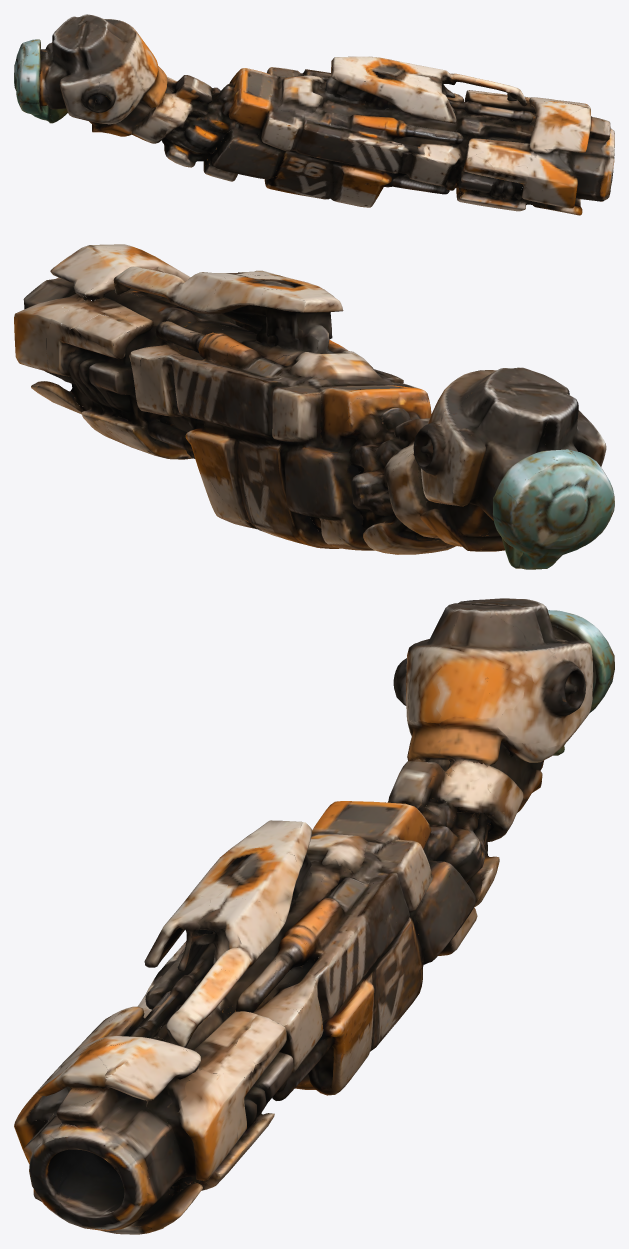
The model's file is Rustwing_56_Original.glb.
3 views of the same model, one above another, from view 1: azimuth 30°, elevation 25°; view 2: azimuth 150°, elevation 25°; view 3: azimuth 270°, elevation 25° (orthographic). The views are drawn at different scales.
Visible parts, largest first — view 1: tripo_part_0, tripo_part_2, tripo_part_1, tripo_part_6, tripo_part_10, tripo_part_9, tripo_part_3, tripo_part_11, tripo_part_15, tripo_part_4, tripo_part_20, tripo_part_26 (+9 smaller); view 2: tripo_part_0, tripo_part_2, tripo_part_4, tripo_part_6, tripo_part_1, tripo_part_18, tripo_part_3, tripo_part_9, tripo_part_8, tripo_part_11, tripo_part_15, tripo_part_7 (+6 smaller); view 3: tripo_part_2, tripo_part_0, tripo_part_1, tripo_part_18, tripo_part_19, tripo_part_6, tripo_part_11, tripo_part_15, tripo_part_9, tripo_part_3, tripo_part_16, tripo_part_25 (+10 smaller).
Boxes of the visible parts, x1,y1,x2,y2 form: tripo_part_0: (257, 67, 469, 207); tripo_part_2: (44, 14, 167, 124); tripo_part_1: (325, 56, 534, 123); tripo_part_6: (203, 68, 281, 181); tripo_part_10: (463, 138, 577, 208); tripo_part_9: (277, 75, 460, 145); tripo_part_3: (161, 86, 237, 167); tripo_part_11: (529, 97, 590, 154); tripo_part_15: (131, 75, 212, 143); tripo_part_4: (14, 39, 67, 123); tripo_part_20: (456, 102, 535, 153); tripo_part_26: (559, 146, 612, 184); tripo_part_0: (129, 323, 418, 548); tripo_part_2: (413, 367, 606, 520); tripo_part_4: (493, 449, 614, 569); tripo_part_6: (284, 381, 431, 550); tripo_part_1: (113, 266, 343, 352); tripo_part_18: (14, 293, 155, 376); tripo_part_3: (349, 407, 456, 554); tripo_part_9: (173, 319, 393, 384); tripo_part_8: (67, 339, 160, 430); tripo_part_11: (50, 244, 190, 301); tripo_part_15: (384, 418, 439, 538); tripo_part_7: (416, 462, 504, 551); tripo_part_2: (393, 598, 593, 766); tripo_part_0: (137, 839, 432, 1095); tripo_part_1: (131, 820, 312, 1047); tripo_part_18: (165, 1011, 286, 1180); tripo_part_19: (29, 1124, 182, 1230); tripo_part_6: (296, 801, 477, 964); tripo_part_11: (36, 1036, 201, 1100); tripo_part_15: (387, 758, 524, 841); tripo_part_9: (195, 834, 368, 1016); tripo_part_3: (376, 798, 499, 906); tripo_part_16: (236, 897, 344, 1012); tripo_part_25: (102, 1088, 171, 1175).
Bounding box in the file's own units: 1 × 0.3833 × 0.6414.
1 material, 1 textured.
